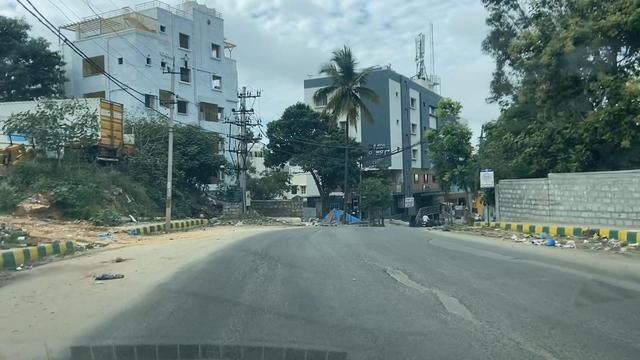RoadDamages: (353, 249, 525, 356), (423, 235, 543, 281), (232, 238, 297, 293)
